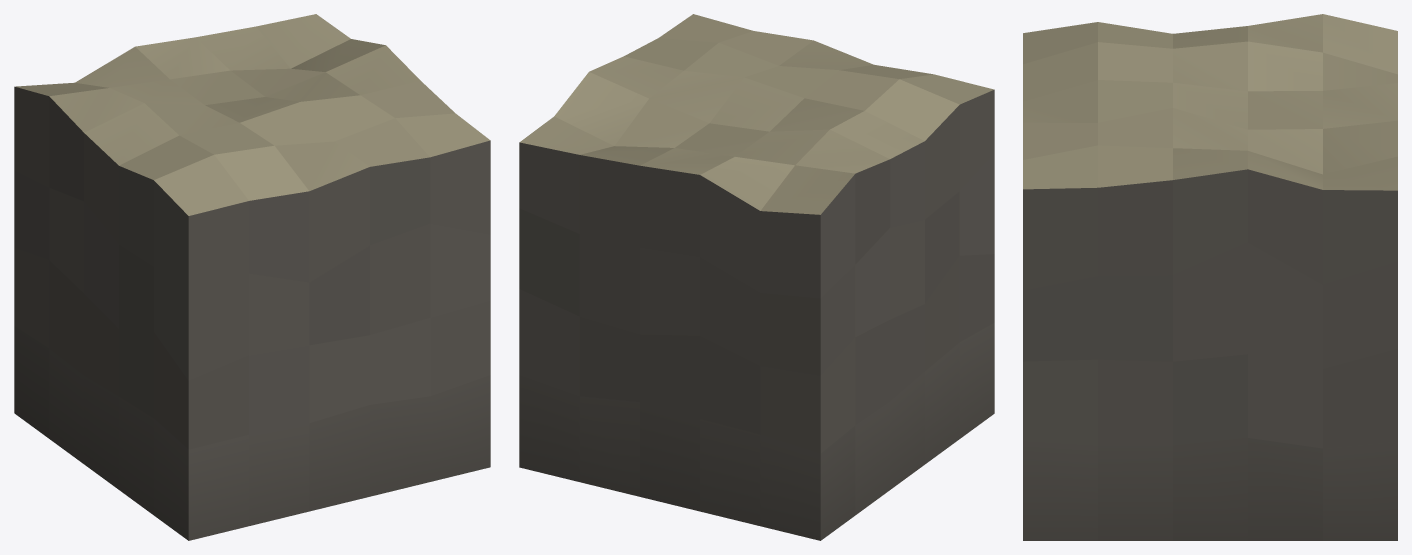
Rendered from roca_relleno_3.glb.
3 renders of one model, left to right at view 1: azimuth 30°, elevation 25°; view 2: azimuth 150°, elevation 25°; view 3: azimuth 270°, elevation 25°, orthographic. The views are drawn at different scales.
Parts seen in each view (by area): view 1: propforge-cuartos-roca_relleno; view 2: propforge-cuartos-roca_relleno; view 3: propforge-cuartos-roca_relleno.
Boxes of the visible parts, box(x1,y1,x2,y2) form: propforge-cuartos-roca_relleno: box(14, 14, 490, 540); propforge-cuartos-roca_relleno: box(519, 14, 994, 540); propforge-cuartos-roca_relleno: box(1023, 14, 1397, 540).
Size of the model in its own units: 1 by 1.1 by 1.
